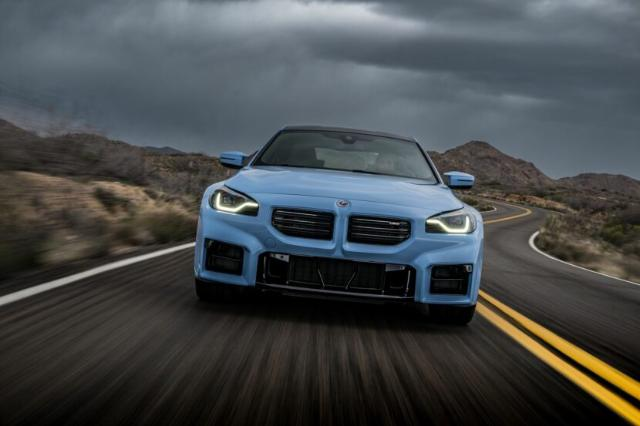bmw: (193, 124, 485, 326)
